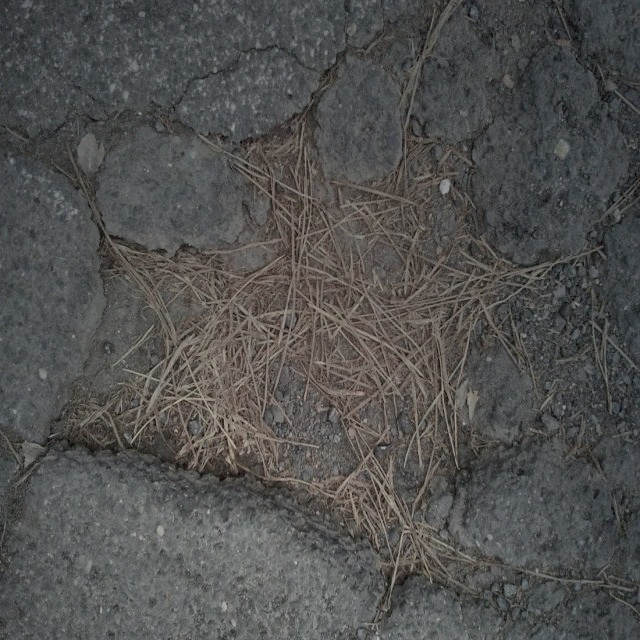pothole: (46, 97, 590, 590)
